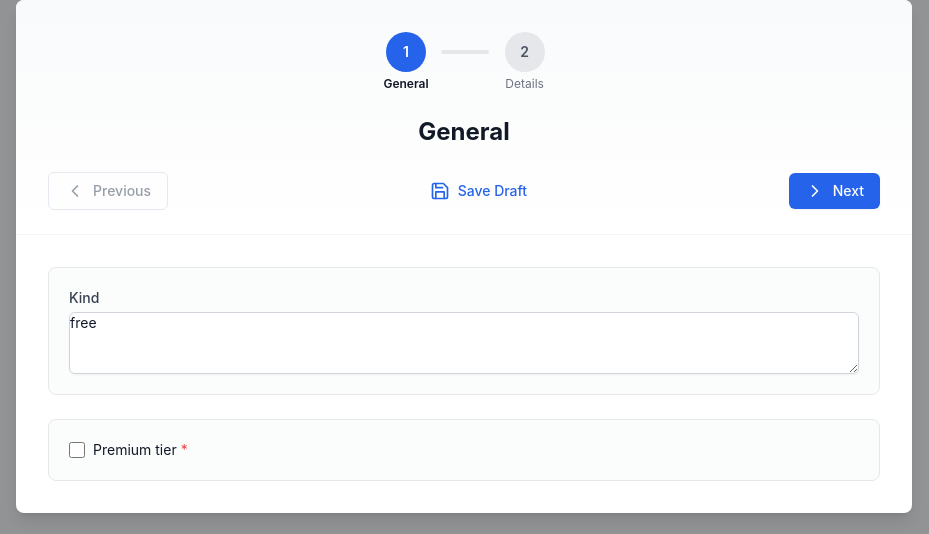
FormWizard required Boolean left untouched (KNG-53) › resumed submission saved with null (before the KNG-26 fix): Next passes and false is saved
Expected: the checkbox is shown, [69,442,85,458]
Click the button "Next" at x=834, y=191, box [789,173,880,209]
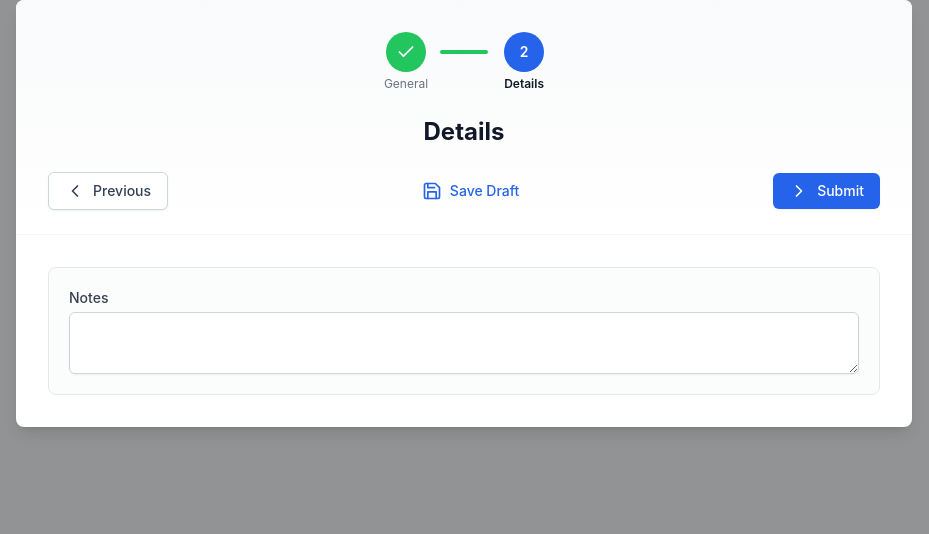
Result: the button "Submit" is shown at [773,173,880,209]
